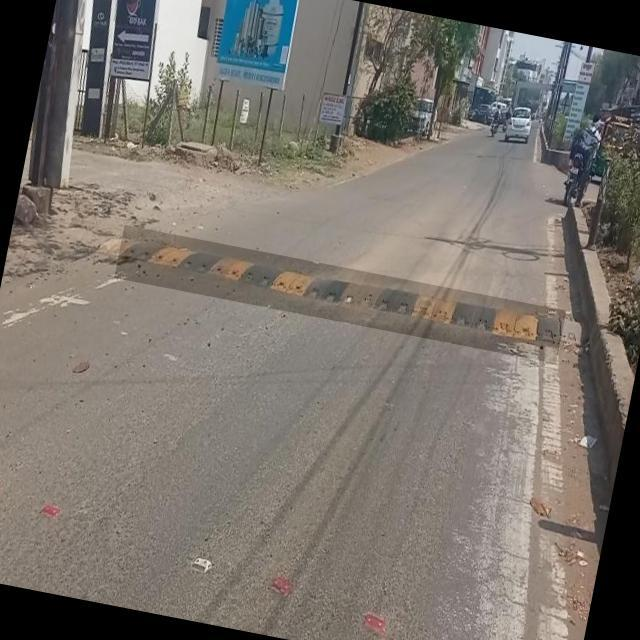speedbreaker: (114, 225, 566, 364)
